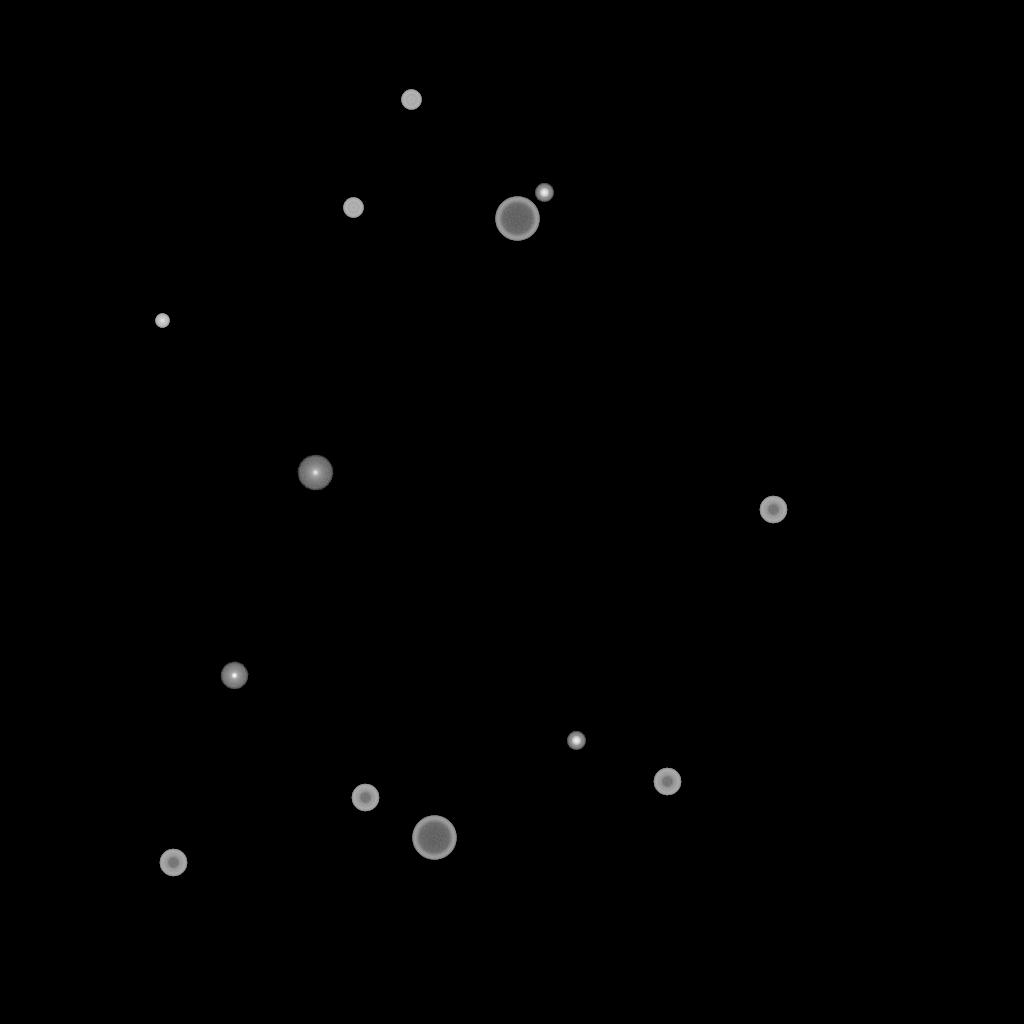depth:-10: (220, 662, 248, 690)
depth:-20: (567, 732, 585, 750), (535, 184, 553, 202)
depth:-30: (155, 314, 169, 328)
depth:-40: (401, 90, 421, 110), (343, 198, 363, 218)
depth:-50: (159, 849, 187, 877), (351, 784, 379, 812), (759, 496, 787, 524), (653, 768, 681, 796)
depth:-70: (412, 816, 456, 860), (495, 197, 539, 241)
depth:0: (297, 455, 333, 491)
